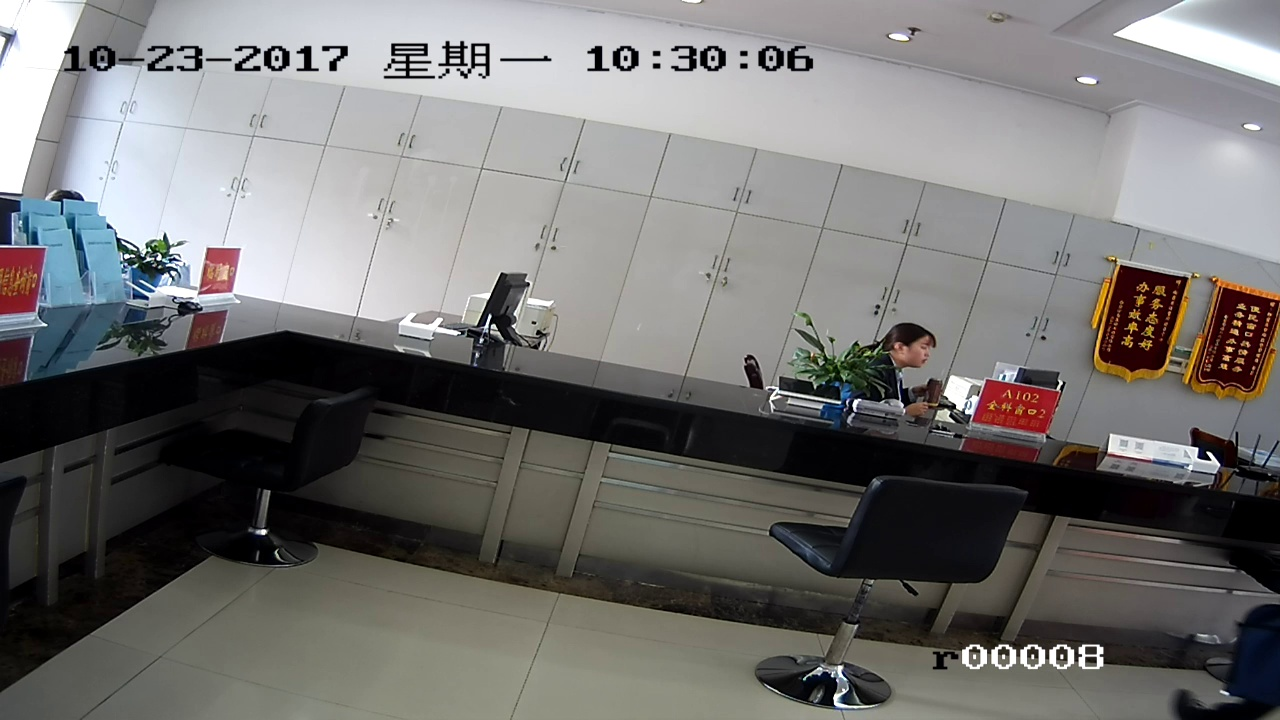billboard: (1203, 284, 1256, 391), (1115, 265, 1166, 372)
chair: (740, 474, 1025, 704), (185, 388, 390, 581)
person: (885, 324, 931, 387)
pot: (811, 338, 883, 399), (128, 233, 176, 299)
